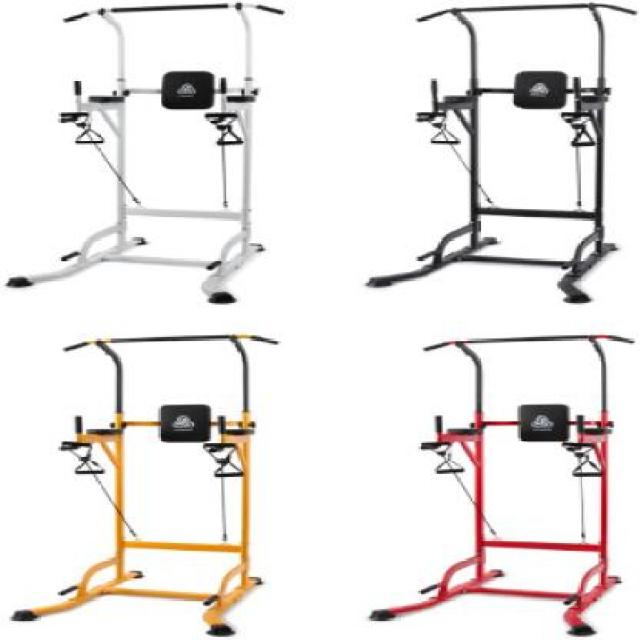chinning dipping: (3, 3, 286, 306), (368, 334, 637, 635), (366, 3, 634, 303), (15, 332, 278, 636)
